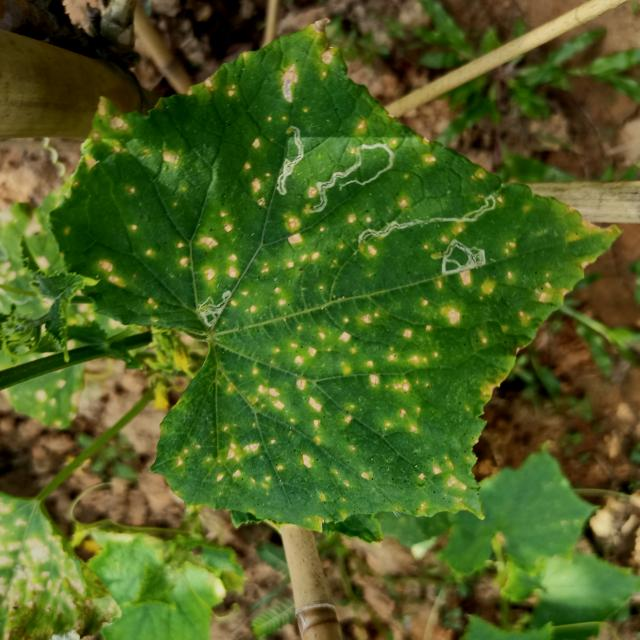disease_cucumber: (174, 268, 572, 506), (74, 100, 182, 180), (144, 204, 242, 283), (262, 43, 340, 122), (252, 210, 317, 278), (243, 126, 270, 212), (347, 196, 414, 226), (184, 77, 240, 102), (422, 222, 464, 251), (101, 251, 123, 289)
